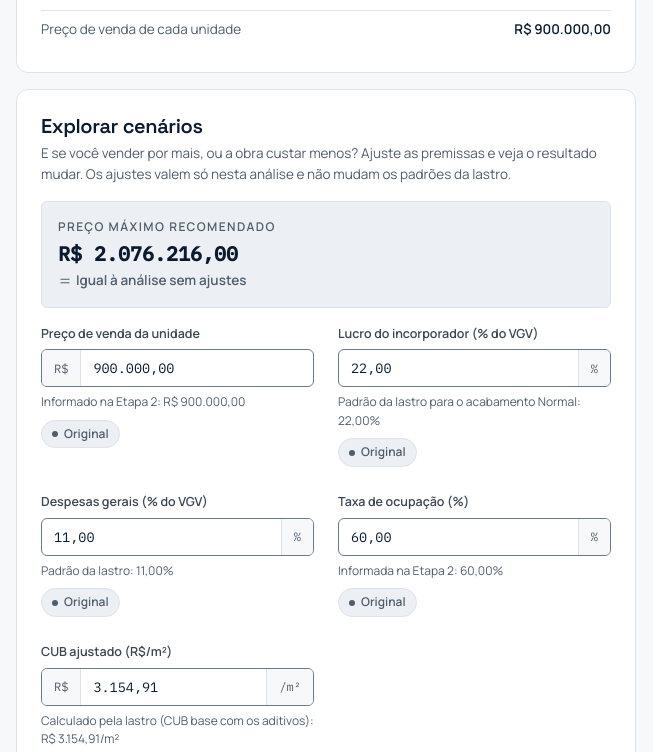
Scenario: painel de premissas (F17) › "vender 10% mais" (PRD 10.2): o servidor recalcula e todo o resultado reage
The width and height of the screenshot is (653, 752).
(page scrolled)
Replace the text in the field labelled "Preço de venda da unidade" with "990.000,00": (197, 368) [81, 350, 313, 386]
(page scrolled)
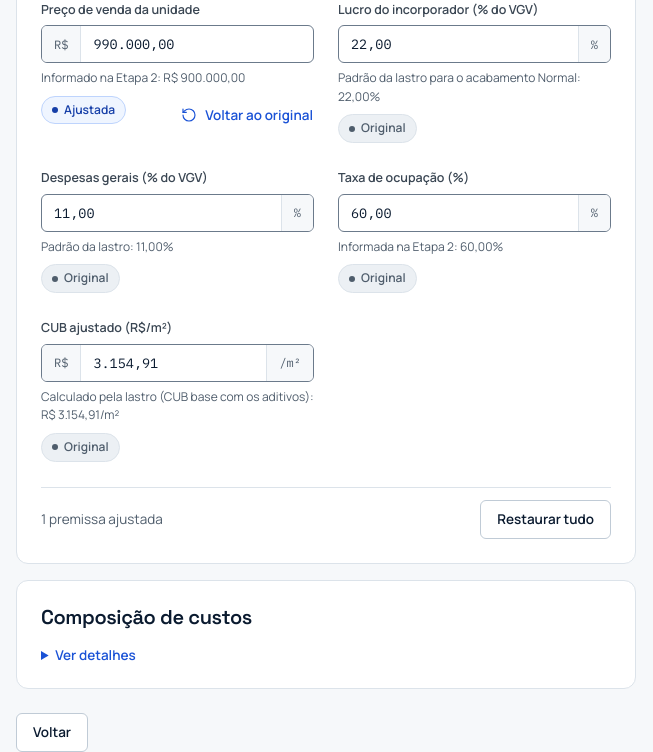
Result: the element with test id "etiqueta-precoUnidade" reads "Ajustada" at [64, 101, 115, 118]
Result: the text with test id "cenario-quantidade" reads "1 premissa ajustada" at [41, 510, 163, 528]
